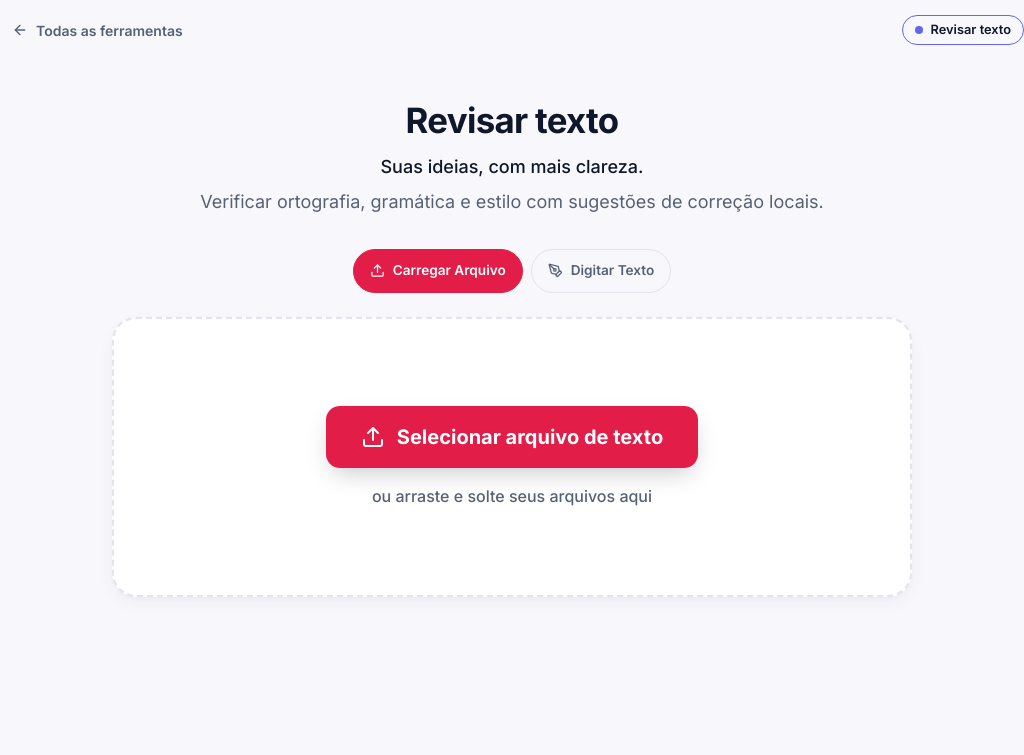
Test: Revisão interativa no website › invalida sugestões após edição manual e permite apagar todo o texto
Click the button "Digitar Texto". click: {"x": 601, "y": 271}
box: [531,249,671,293]
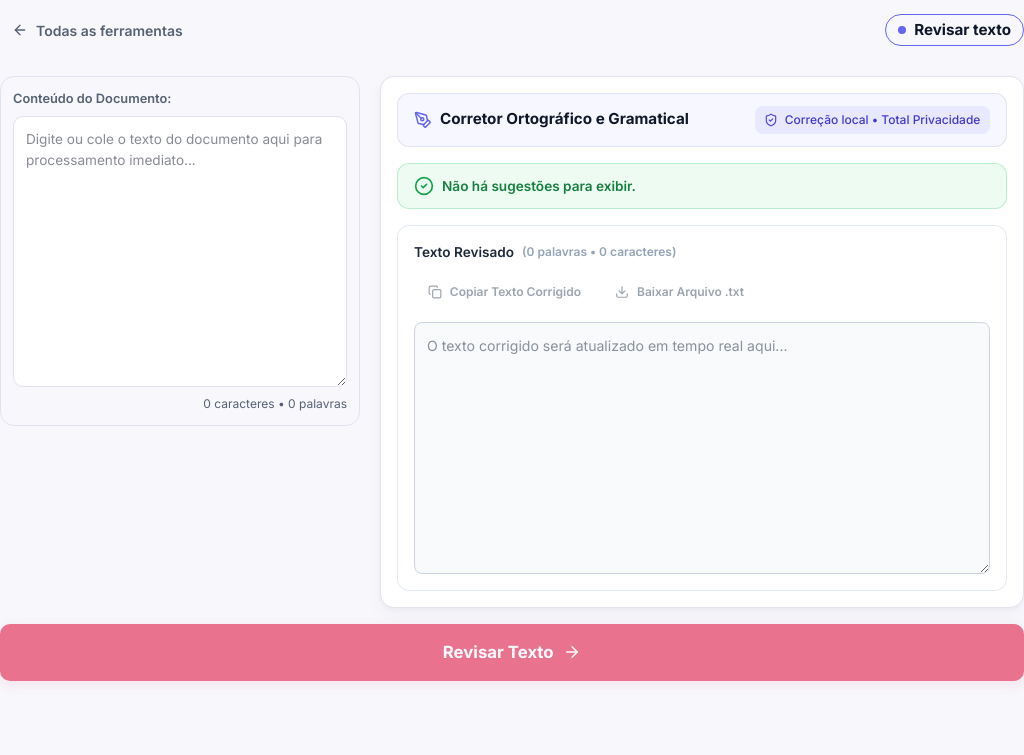
Replace the text in the text box with id "dedicated-tool-direct-textarea" with "Eu fasso isso.". click: {"x": 180, "y": 252}
box: [13,116,347,387]
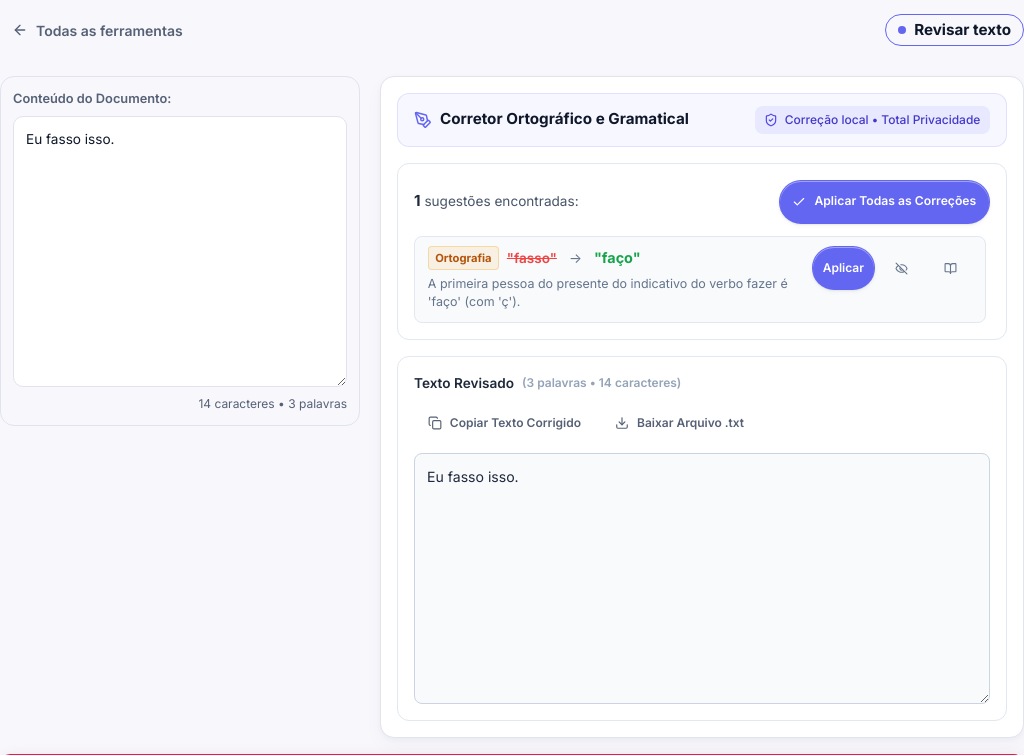
Clear the 2nd text box. click: {"x": 702, "y": 579}
box: [414,453,990,704]
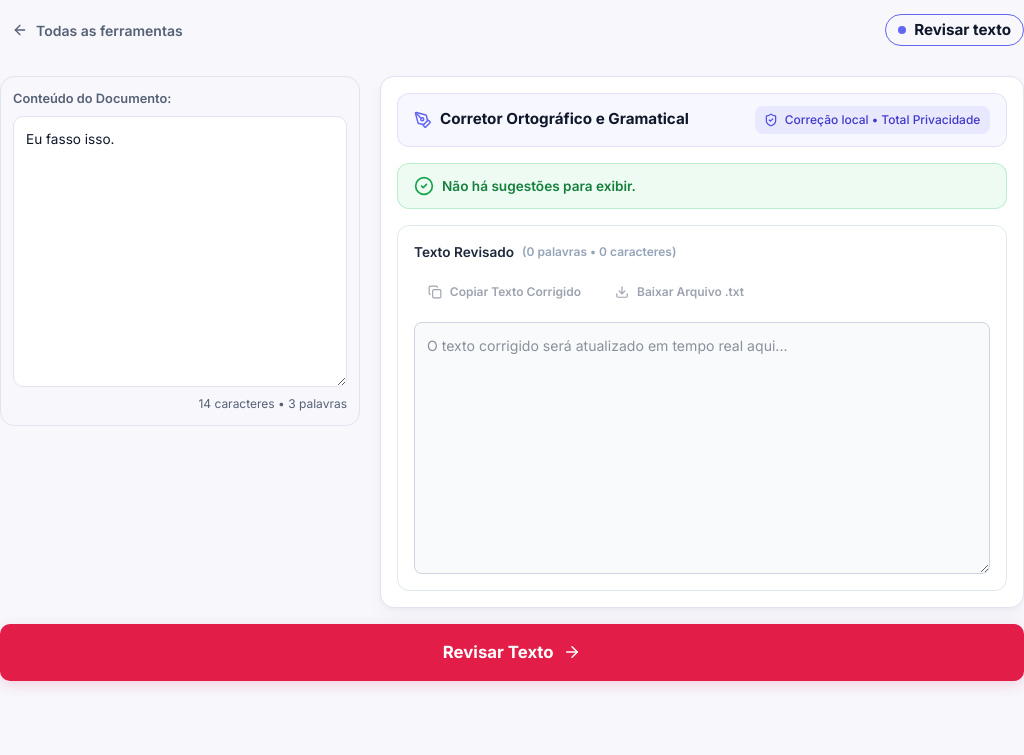
Expected: the button "Aplicar" is gone
